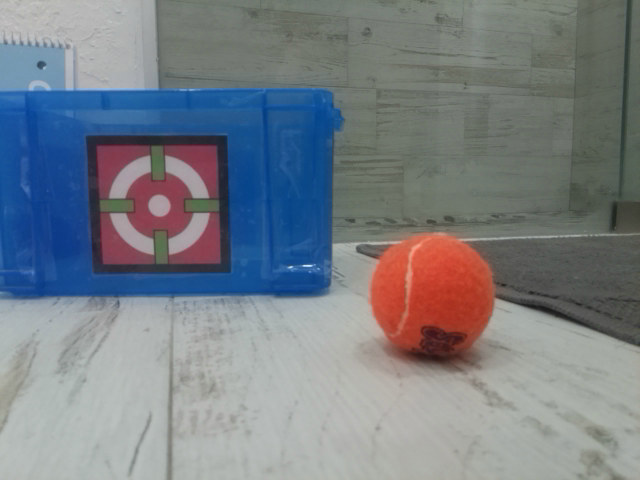drop-bin: (86, 134, 231, 274)
orange-ball: (369, 232, 497, 360)
